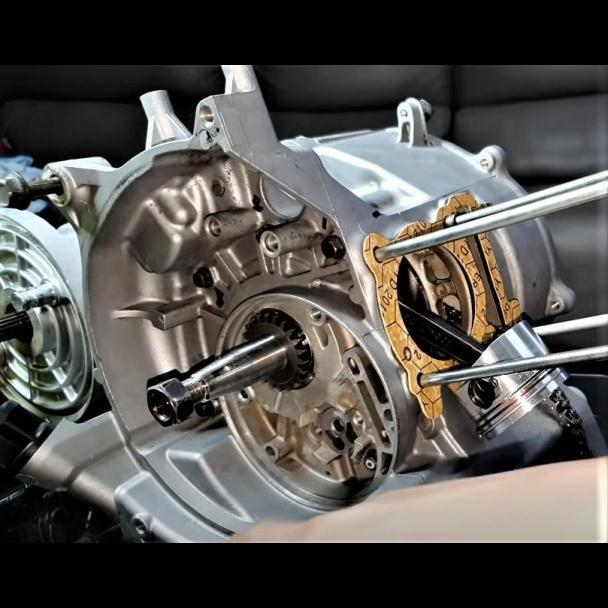hole: (257, 231, 282, 258), (203, 213, 222, 242), (196, 102, 217, 127), (305, 304, 325, 326)
